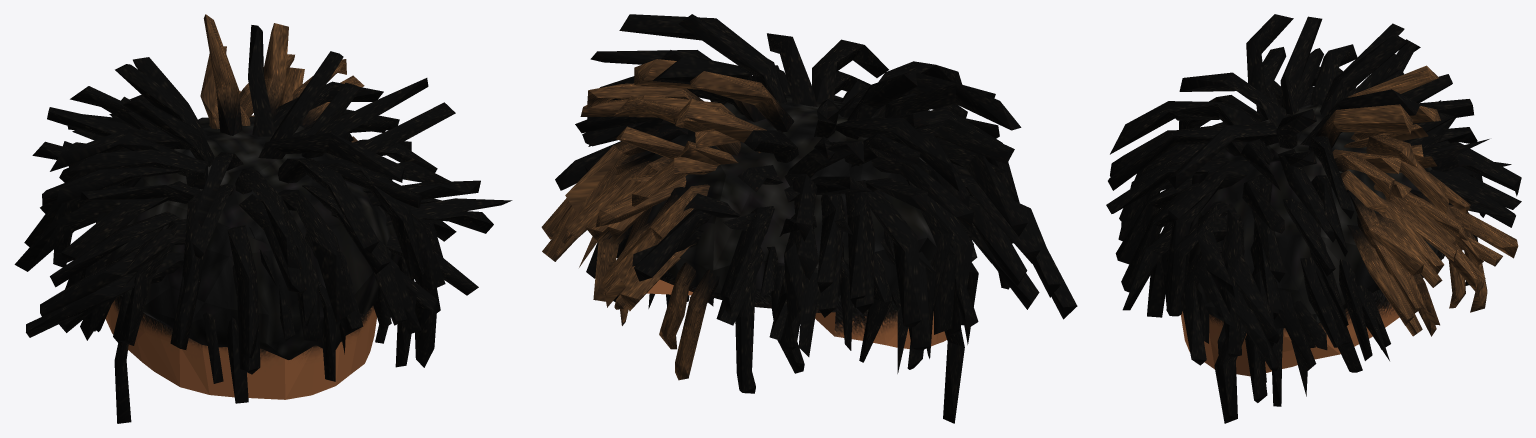
3 renders of one model, left to right at view 1: azimuth 30°, elevation 25°; view 2: azimuth 150°, elevation 25°; view 3: azimuth 270°, elevation 25°, orthographic. The views are drawn at different scales.
Visible parts, largest first — view 1: geometry_0; view 2: geometry_0; view 3: geometry_0.
Boxes of the visible parts, x1,y1,x2,y2 form: geometry_0: (14, 14, 512, 423); geometry_0: (541, 14, 1077, 423); geometry_0: (1106, 14, 1521, 423).
Bounding box in the file's own units: 2.4 × 1.59 × 1.88.
1 material, 1 textured.
